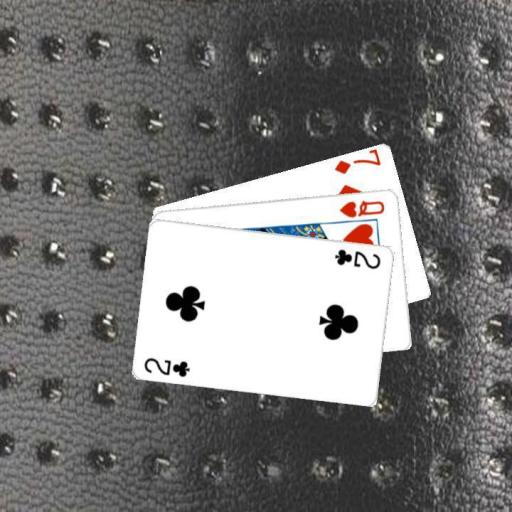card-corner: (332, 147, 382, 176), (332, 246, 383, 270), (141, 354, 192, 378), (336, 197, 387, 219)
